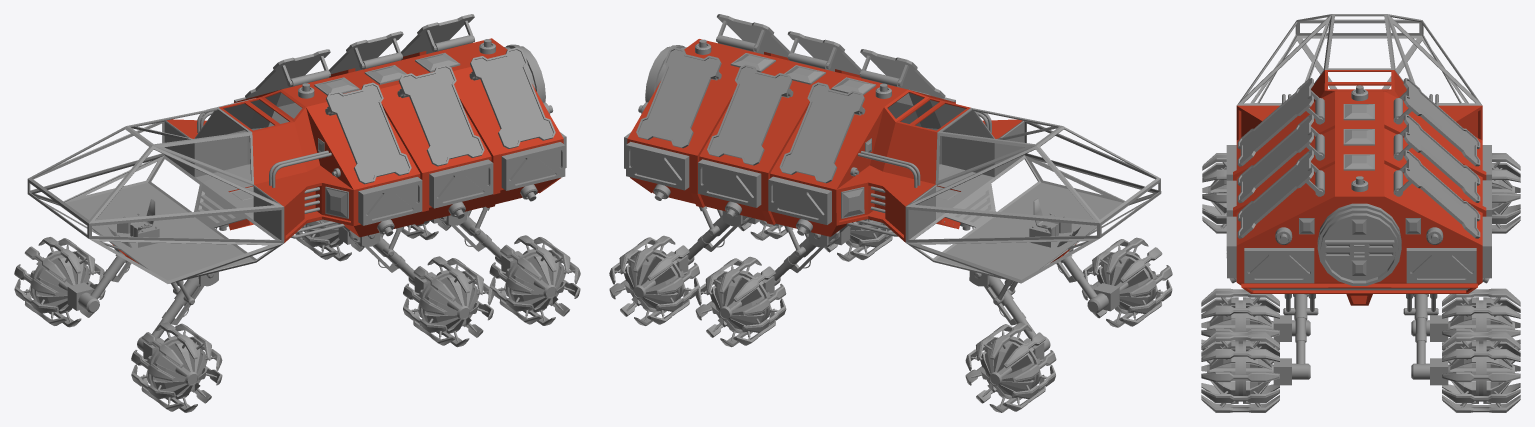
The model's file is TheBeastV005.FBX.
The picture shows the model from 3 angles, left to right: view 1: azimuth 30°, elevation 25°; view 2: azimuth 150°, elevation 25°; view 3: azimuth 270°, elevation 25°; orthographic projection. The views are drawn at different scales.
Visible parts, largest first — view 1: solarPanel, ExteriorShell_Unwrapped, Interior, FrameWork, WheelTurner_LHS, MiddleWheels, RearWheels, Wheel_Unwrapped, Hydraulic_Unwrapped002, Hydraulic_Unwrapped001, Hydraulic_Unwrapped, Seat; view 2: solarPanel, ExteriorShell_Unwrapped, Interior, FrameWork, MiddleWheels, WheelTurner_LHS, RearWheels, Wheel_Unwrapped, Hydraulic_Unwrapped, Hydraulic_Unwrapped002, Hydraulic_Unwrapped001, Seat; view 3: solarPanel, ExteriorShell_Unwrapped, RearWheels, MiddleWheels, FrameWork, Hydraulic_Unwrapped002, Wheel_Unwrapped, WheelTurner_LHS, MiddleWheelElement.
Boxes of the visible parts, box(x1,y1,x2,y2) form: solarPanel: box(197, 14, 566, 238); ExteriorShell_Unwrapped: box(112, 38, 563, 263); Interior: box(66, 92, 302, 280); FrameWork: box(27, 107, 284, 283); WheelTurner_LHS: box(131, 272, 222, 412); MiddleWheels: box(295, 220, 493, 347); RearWheels: box(401, 217, 580, 325); Wheel_Unwrapped: box(14, 237, 105, 327); Hydraulic_Unwrapped002: box(430, 206, 522, 274); Hydraulic_Unwrapped001: box(319, 219, 415, 280); Hydraulic_Unwrapped: box(67, 248, 131, 310); Seat: box(108, 199, 159, 247); solarPanel: box(624, 14, 991, 236); ExteriorShell_Unwrapped: box(627, 39, 1076, 262); Interior: box(887, 92, 1122, 279); FrameWork: box(905, 108, 1161, 283); MiddleWheels: box(695, 219, 893, 347); WheelTurner_LHS: box(1056, 237, 1172, 327); RearWheels: box(609, 217, 787, 325); Wheel_Unwrapped: box(965, 322, 1056, 412); Hydraulic_Unwrapped: box(969, 271, 1044, 359); Hydraulic_Unwrapped002: box(667, 206, 760, 275); Hydraulic_Unwrapped001: box(773, 219, 869, 280); Seat: box(1029, 199, 1080, 247); solarPanel: box(1226, 78, 1491, 290); ExteriorShell_Unwrapped: box(1233, 70, 1486, 305); RearWheels: box(1201, 332, 1520, 412); MiddleWheels: box(1201, 288, 1520, 363); FrameWork: box(1237, 14, 1482, 105); Hydraulic_Unwrapped002: box(1273, 294, 1448, 385); Wheel_Unwrapped: box(1492, 153, 1520, 233); WheelTurner_LHS: box(1202, 153, 1226, 233); MiddleWheelElement: box(1273, 315, 1448, 341).
Bounding box in the file's own units: 1957 × 956 × 1126.
